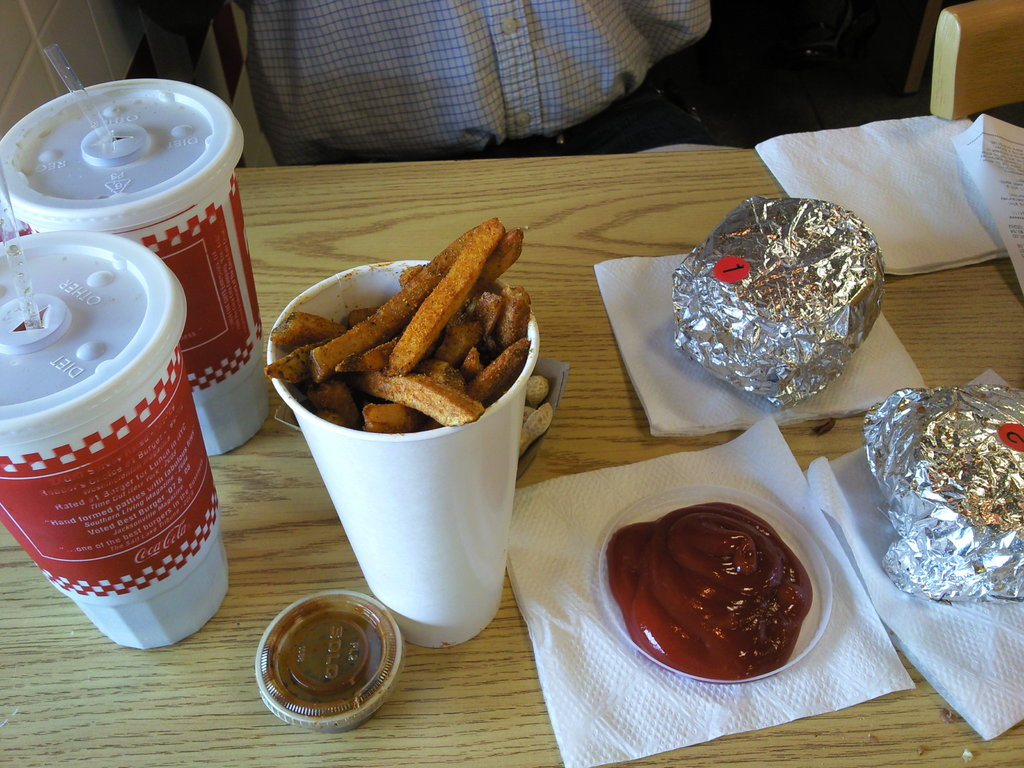French fries: (255, 215, 538, 426)
